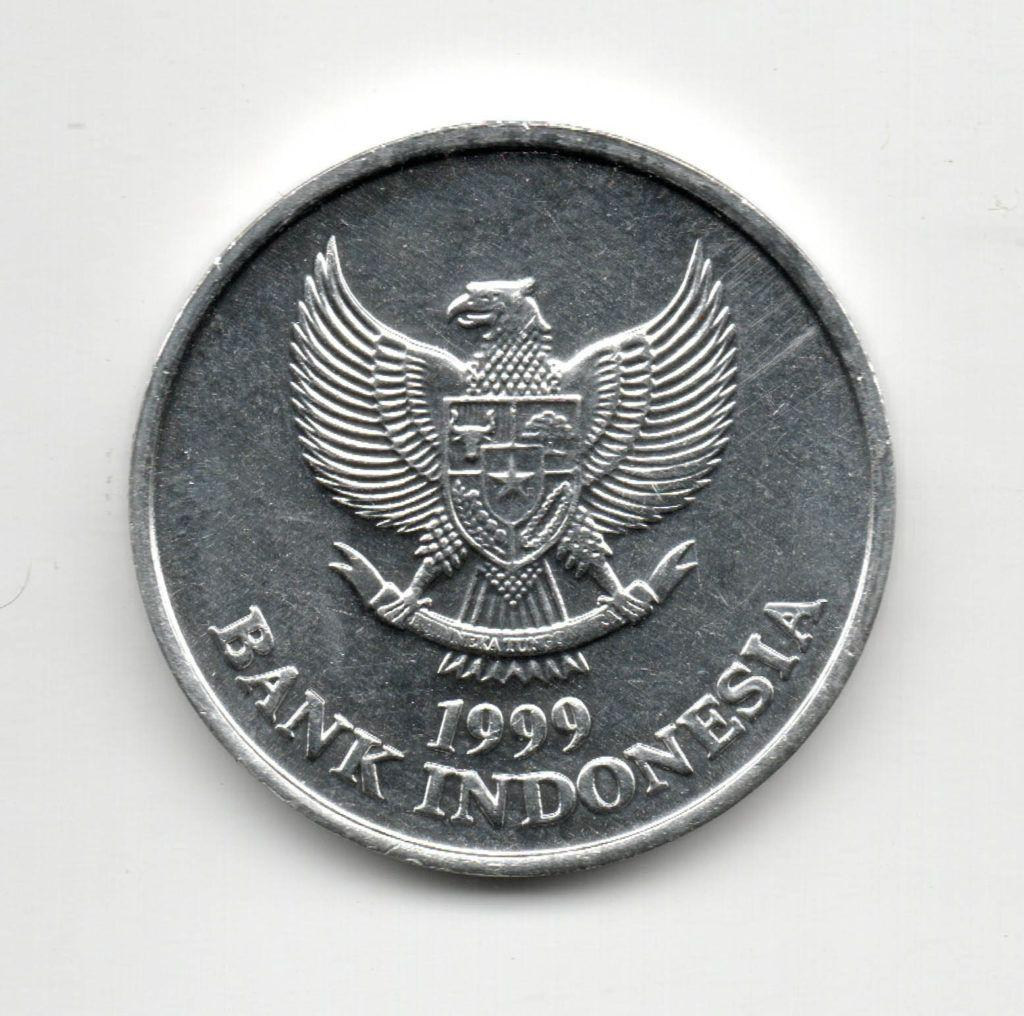coin_100_e1999: (118, 112, 902, 893)
